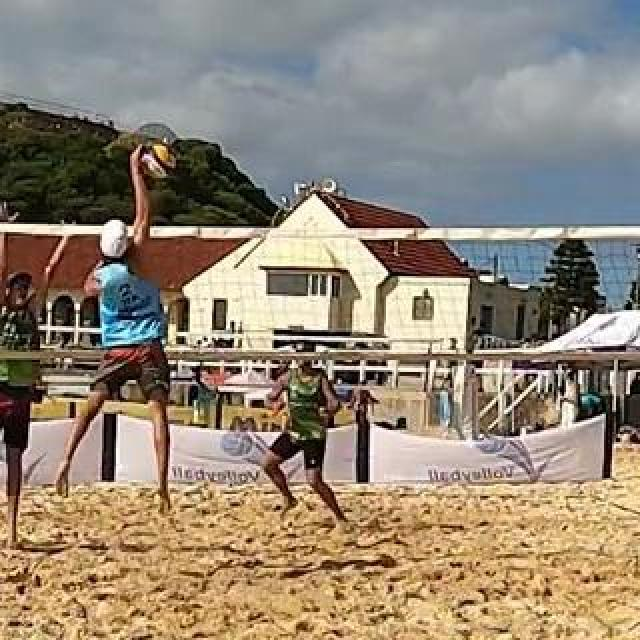volleyball: (136, 143, 174, 179)
